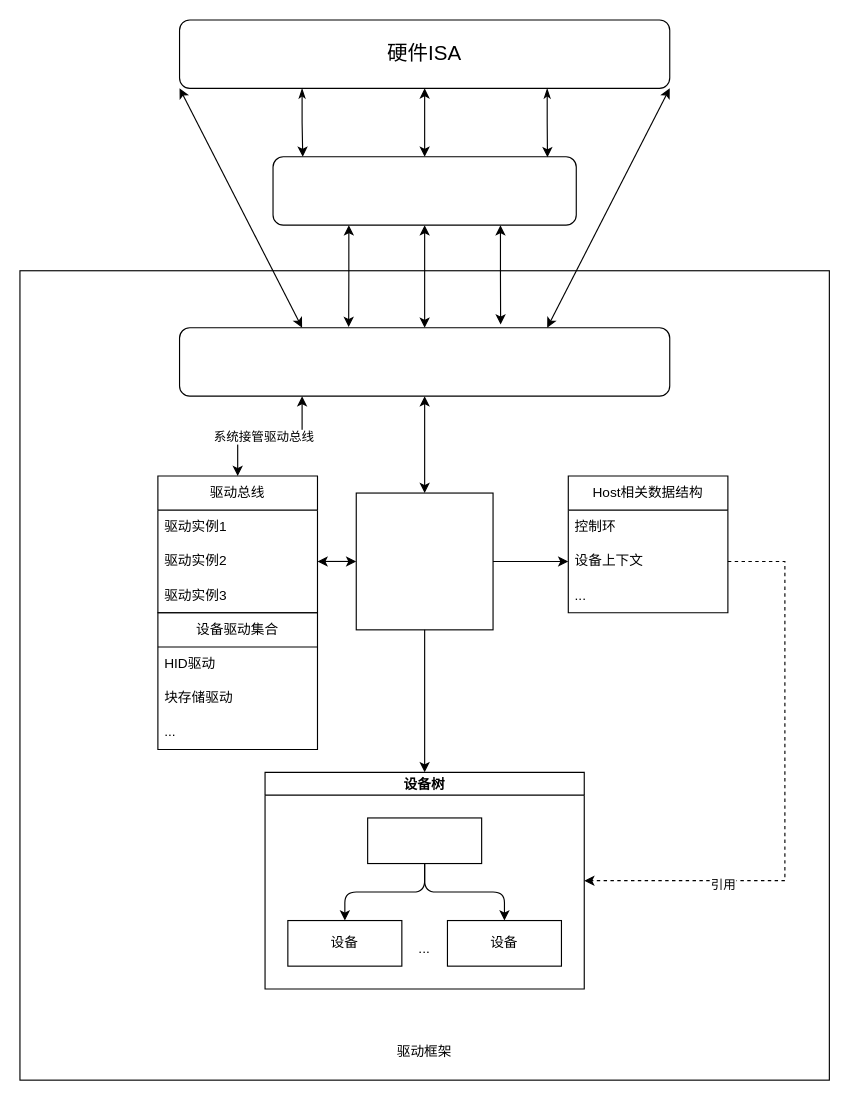
This 849x1100 diagram has some shape labels left out. The centre of each missing label's shape, as x and y in pixels:
HOST驱动 （XHCI）: the point at 424,561
RootHub: the point at 424,840
操作系统: the point at 424,190
操作系统/硬件平台行为抽象: the point at 424,361
